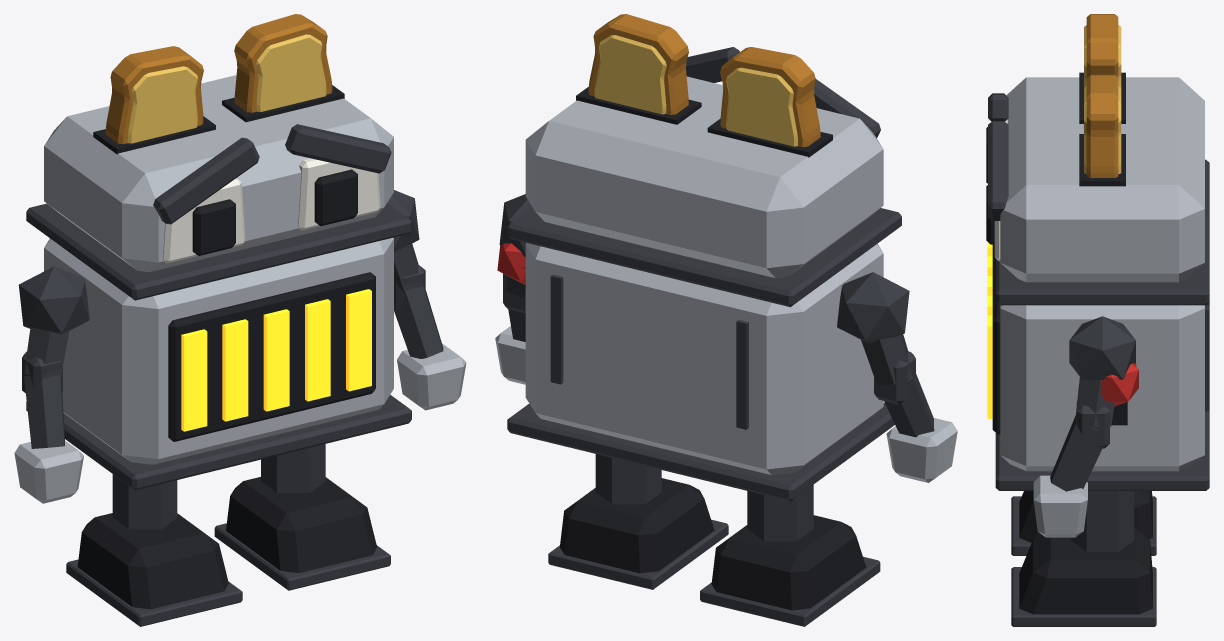
Rendered from Toastmaster.fbx.
The picture shows the model from 3 angles, left to right: view 1: azimuth 30°, elevation 25°; view 2: azimuth 150°, elevation 25°; view 3: azimuth 270°, elevation 25°; orthographic projection. The views are drawn at different scales.
Visible parts, largest first — view 1: Torso, Head, TorsoTrim, CoilRecess, Coils, RightLegBoot, LeftLegBoot, Toast, RightArm, ToastCrust, FaceBrows, FaceEyeWhite (+9 smaller); view 2: Torso, Head, TorsoTrim, LeftLegBoot, RightLegBoot, Toast, RightArm, ToastCrust, RightArmClaw, RightLeg, RightLegSole, LeftLegSole (+6 smaller); view 3: Head, Torso, TorsoTrim, LeftLegBoot, LeftArm, ToastCrust, LeftLeg, LeftArmClaw, LeftLegSole, FaceBrows, RightLegBoot, ToastSlots (+7 smaller).
Boxes of the visible parts, <box> form: Torso: <box>44,237,393,464</box>; Head: <box>44,75,393,272</box>; TorsoTrim: <box>26,203,411,490</box>; CoilRecess: <box>168,272,375,441</box>; Coils: <box>181,289,371,431</box>; RightLegBoot: <box>77,513,228,609</box>; LeftLegBoot: <box>226,477,376,572</box>; Toast: <box>127,34,326,143</box>; RightArm: <box>18,266,89,448</box>; ToastCrust: <box>105,14,332,144</box>; FaceBrows: <box>153,124,391,224</box>; FaceEyeWhite: <box>163,158,380,263</box>; Torso: <box>525,243,883,475</box>; Head: <box>525,76,883,278</box>; TorsoTrim: <box>507,207,901,501</box>; LeftLegBoot: <box>560,478,714,573</box>; RightLegBoot: <box>711,515,866,610</box>; Toast: <box>594,35,797,146</box>; RightArm: <box>837,272,934,437</box>; ToastCrust: <box>588,14,820,147</box>; RightArmClaw: <box>886,418,957,482</box>; RightLeg: <box>747,485,813,541</box>; RightLegSole: <box>700,556,880,626</box>; LeftLegSole: <box>548,519,728,589</box>; Head: <box>1000,77,1204,282</box>; Torso: <box>1000,305,1204,471</box>; TorsoTrim: <box>995,159,1209,490</box>; LeftLegBoot: <box>1019,529,1152,614</box>; LeftArm: <box>1050,316,1135,491</box>; ToastCrust: <box>1086,14,1118,177</box>; LeftLeg: <box>1071,491,1134,551</box>; LeftArmClaw: <box>1033,475,1087,537</box>; LeftLegSole: <box>1011,567,1156,626</box>; FaceBrows: <box>988,93,1008,220</box>; RightLegBoot: <box>1019,491,1152,542</box>; ToastSlots: <box>1079,72,1125,186</box>.
Size of the model in its own units: 5.24 by 6.09 by 2.4.
